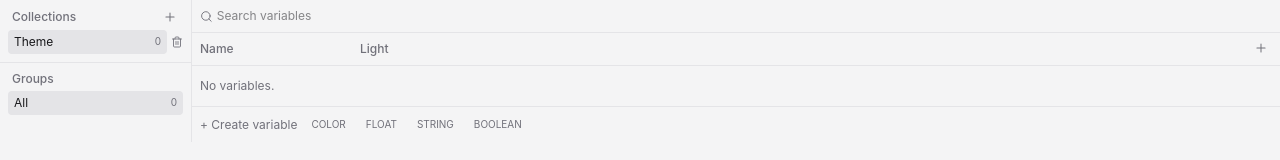
it: VariablesPanel › creates a variable via the create-variable row type picker
This screenshot has width=1280, height=160.
Click the button with test id "create-variable-FLOAT": point(381, 124) [360,115,403,134]
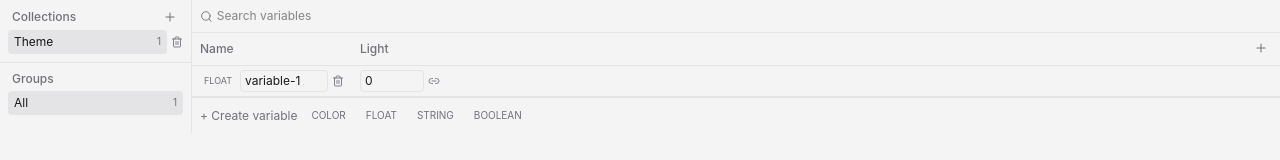
Expected: the text "FLOAT" is shown, [204,75,232,86]
